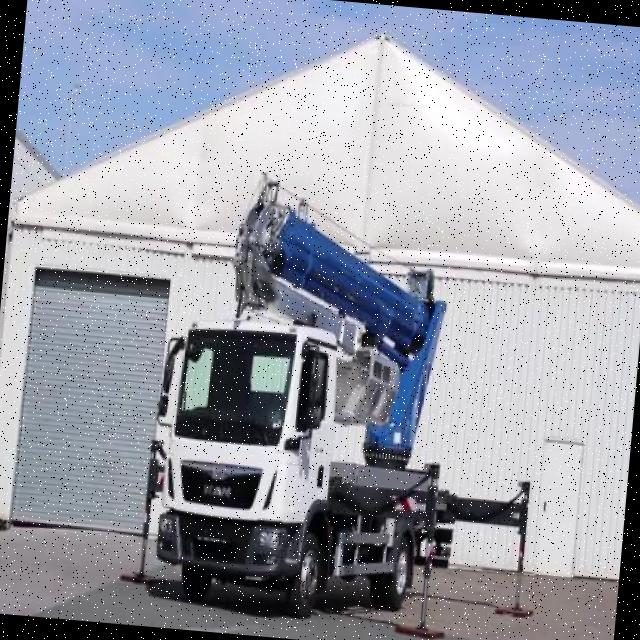Mobile Crane: (121, 167, 563, 640)
